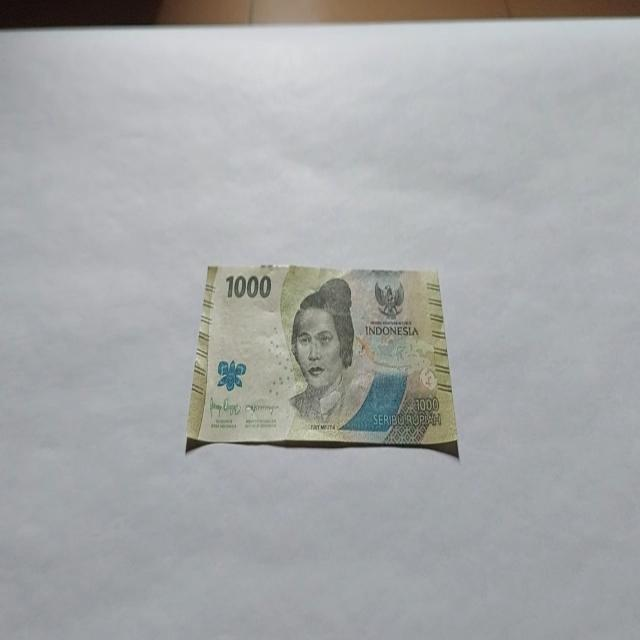seribu rupiah kertas: (185, 262, 460, 459)
